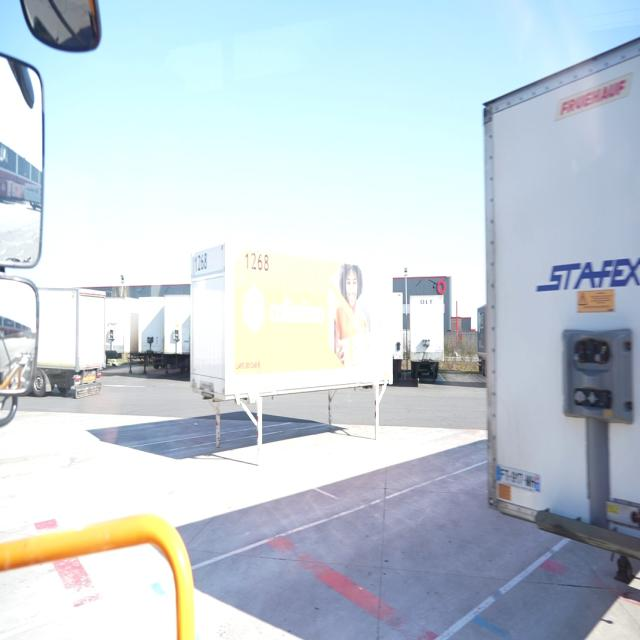Code: (241, 246, 273, 277), (187, 247, 213, 276)
